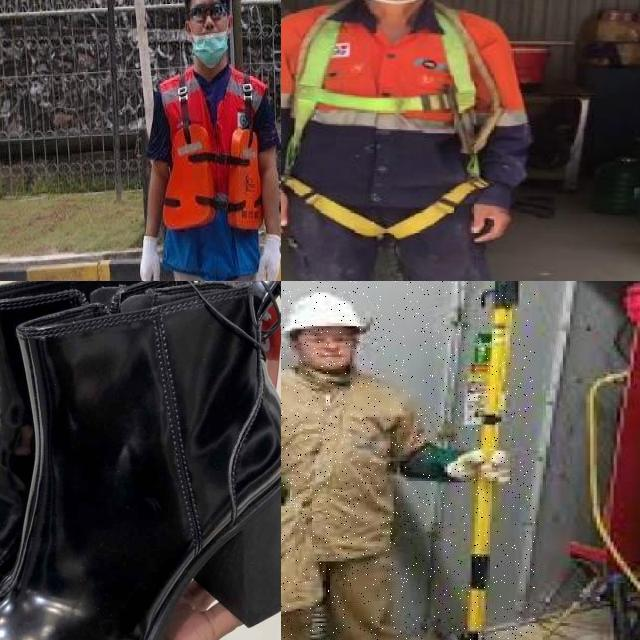Harness: (281, 0, 514, 272)
Sandals: (0, 281, 281, 640)
hand_glove: (436, 448, 512, 487)
head_helmet: (281, 289, 372, 349)
person: (281, 281, 465, 640), (111, 0, 281, 281)
vest: (156, 67, 267, 281)
